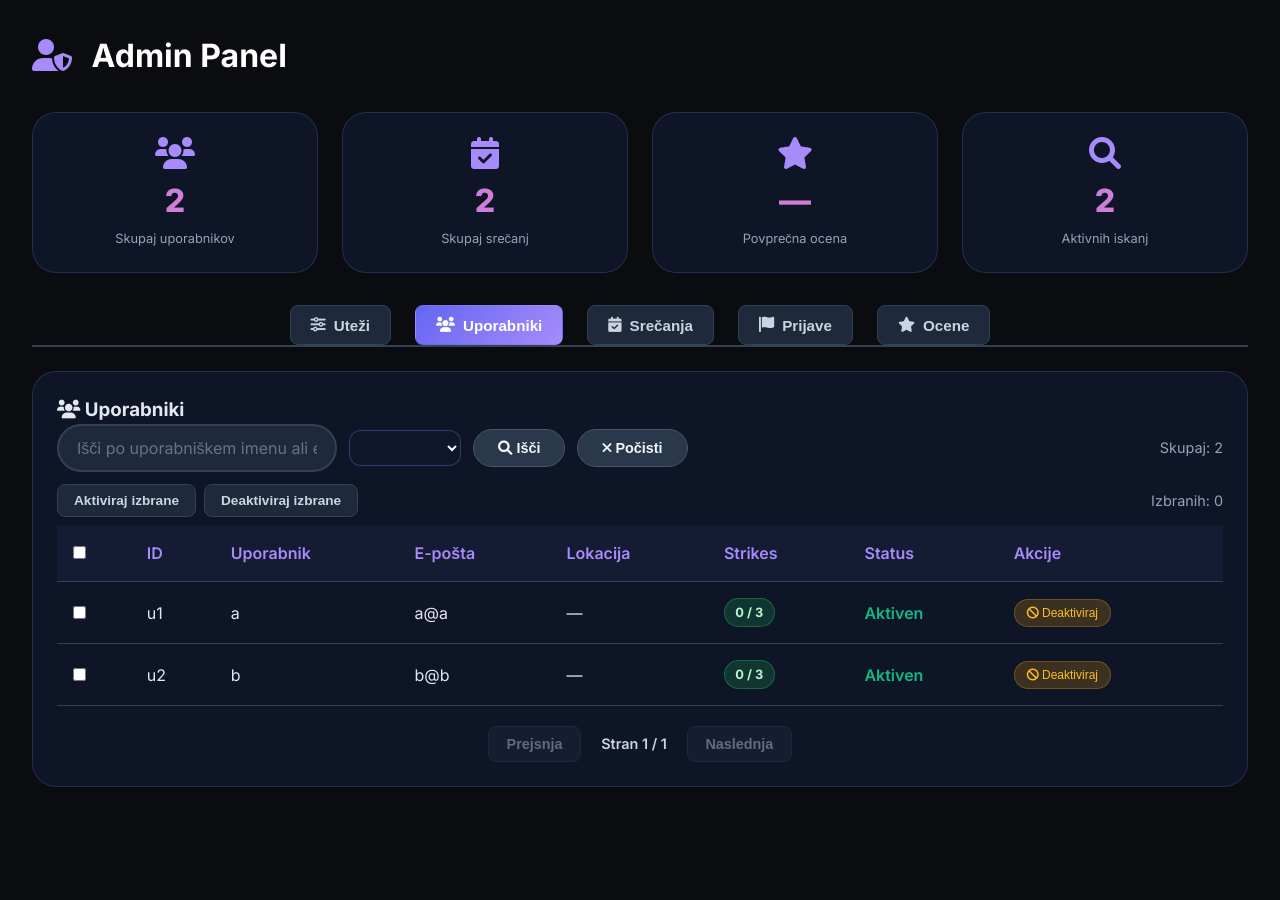
Test: AdminComponent › renders bulk controls and updates selected count through checkbox interaction
Click the checkbox next to "u1".
click(80, 612)  # box [73,606,86,619]
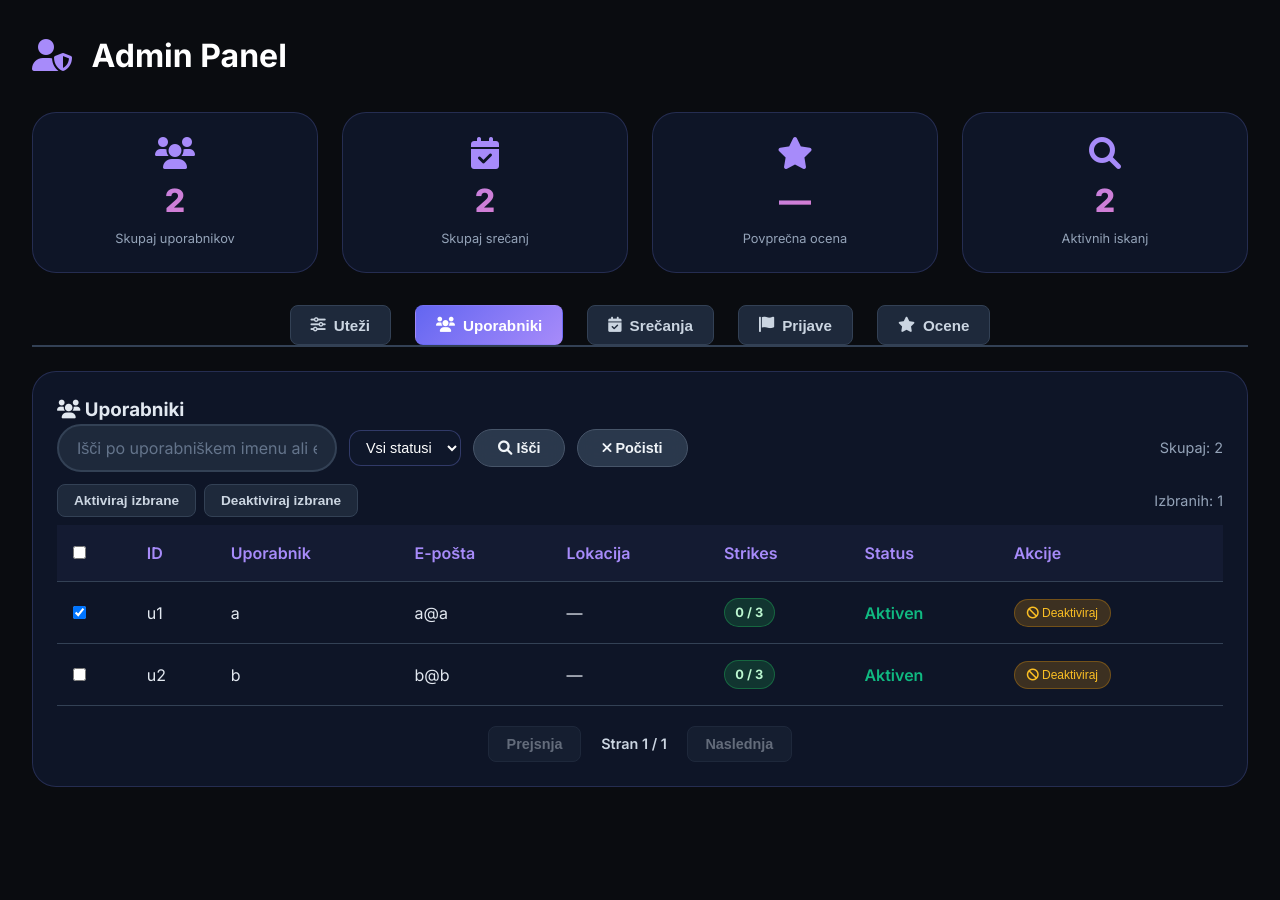
Check: the text "Izbranih: 1" is shown, box [1154,490,1223,511]
Click the checkbox next to "ID".
click(80, 552)  # box [73,546,86,559]
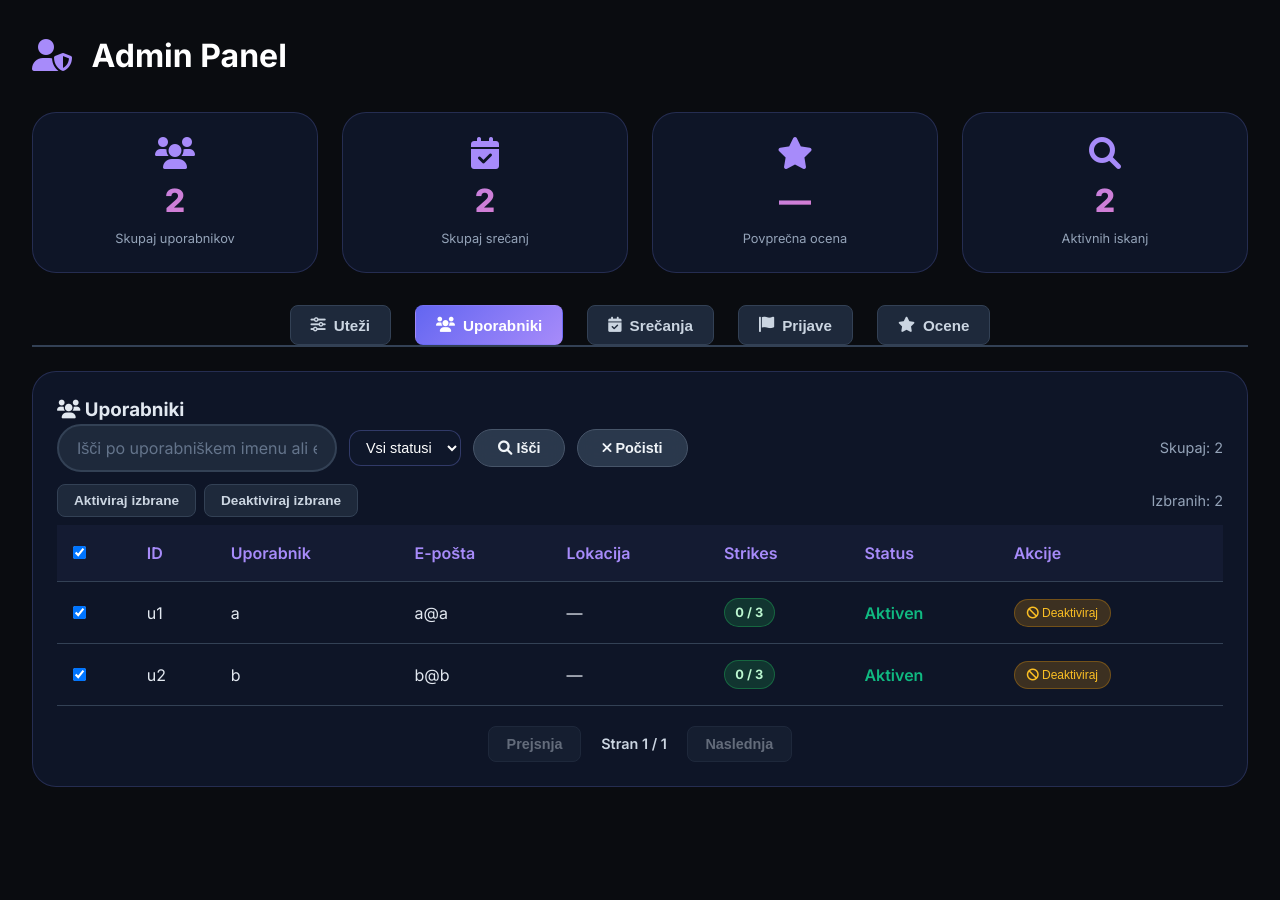
Check: the text "Izbranih: 2" is shown, box [1151,490,1223,511]
